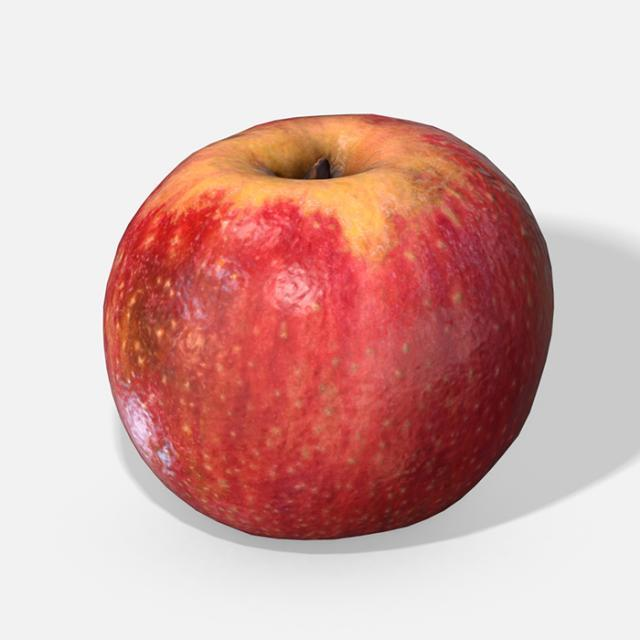Apple: (103, 114, 550, 540)
